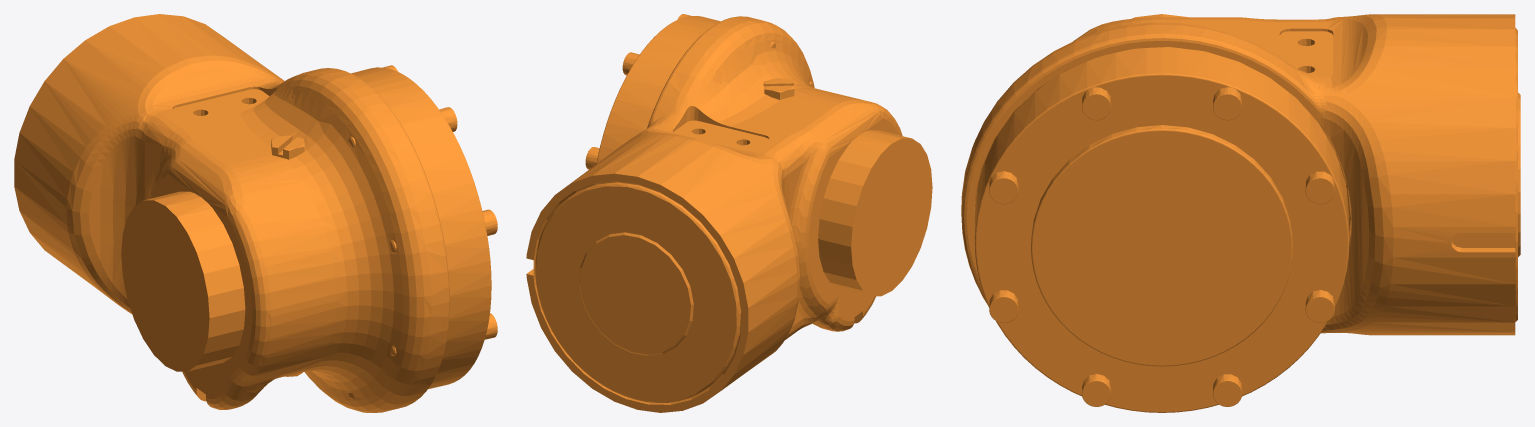
File: xarm7_with_gripper_LR4_R560_link6_visual_vis_1.dae
3 views of the same model, side by side, from view 1: azimuth 30°, elevation 25°; view 2: azimuth 150°, elevation 25°; view 3: azimuth 270°, elevation 25° (orthographic). The views are drawn at different scales.
Parts seen in each view (by area): view 1: Node_000001B88F9E1B20; view 2: Node_000001B88F9E1B20; view 3: Node_000001B88F9E1B20.
Part boxes in pixels (x1,y1,x2,y2): Node_000001B88F9E1B20: [14, 14, 497, 412]; Node_000001B88F9E1B20: [526, 14, 932, 412]; Node_000001B88F9E1B20: [961, 14, 1520, 412].
Size of the model in its own units: 0.0639 by 0.075 by 0.1045.
